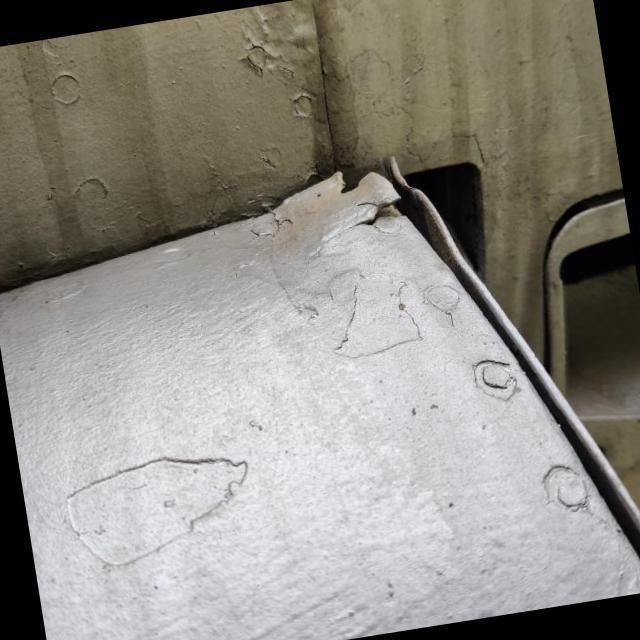Rupture: (343, 185, 414, 242)
